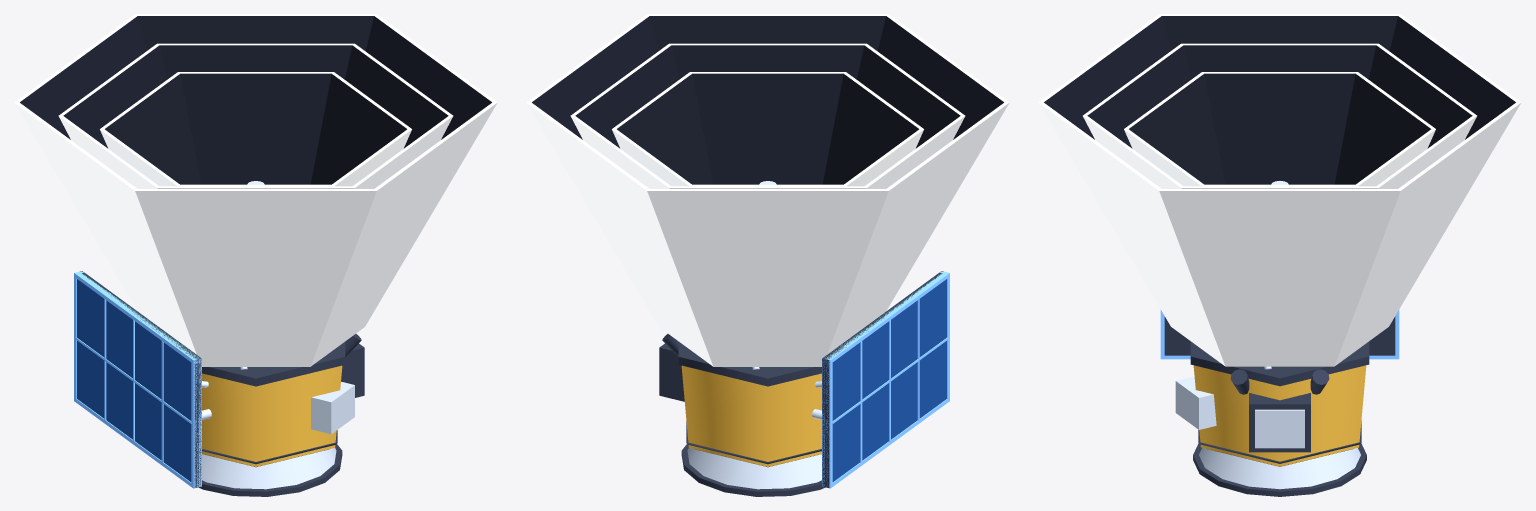
The model's file is spherex-observatory.gltf.
The picture shows the model from 3 angles, left to right: view 1: azimuth 30°, elevation 25°; view 2: azimuth 150°, elevation 25°; view 3: azimuth 270°, elevation 25°; orthographic projection.
Visible parts, largest first — view 1: Photon_Shield_Outer_Exterior, Photon_Shield_Inner_Interior, Photon_Shield_Outer_Interior, Solar_Cells_Plate, Photon_Shield_Middle_Interior, Bus_Hex_Body, Base_Adapter_Cone, Photon_Shield_Outer_Rim, Photon_Shield_Middle_Exterior, Photon_Shield_Middle_Rim, Photon_Shield_Inner_Rim, Bus_Top_Deck (+8 smaller); view 2: Photon_Shield_Outer_Exterior, Photon_Shield_Inner_Interior, Photon_Shield_Outer_Interior, Solar_Cells_Plate, Photon_Shield_Middle_Interior, Bus_Hex_Body, Base_Adapter_Cone, Photon_Shield_Outer_Rim, Photon_Shield_Middle_Exterior, Photon_Shield_Middle_Rim, Photon_Shield_Inner_Rim, Bus_Top_Deck (+7 smaller); view 3: Photon_Shield_Outer_Exterior, Photon_Shield_Inner_Interior, Photon_Shield_Outer_Interior, Photon_Shield_Middle_Interior, Bus_Hex_Body, Base_Adapter_Cone, Photon_Shield_Outer_Rim, Photon_Shield_Middle_Exterior, Photon_Shield_Middle_Rim, Bus_Top_Deck, Photon_Shield_Inner_Rim, Equipment_Radiator_Plate (+6 smaller).
Boxes of the visible parts, x1=… form: Photon_Shield_Outer_Exterior: x1=14, y1=103, x2=497, y2=366; Photon_Shield_Inner_Interior: x1=105, y1=73, x2=406, y2=184; Photon_Shield_Outer_Interior: x1=20, y1=16, x2=491, y2=139; Solar_Cells_Plate: x1=77, y1=279, x2=191, y2=481; Photon_Shield_Middle_Interior: x1=63, y1=45, x2=448, y2=148; Bus_Hex_Body: x1=202, y1=365, x2=342, y2=466; Base_Adapter_Cone: x1=202, y1=448, x2=336, y2=489; Photon_Shield_Outer_Rim: x1=14, y1=14, x2=497, y2=190; Photon_Shield_Middle_Exterior: x1=58, y1=116, x2=453, y2=188; Photon_Shield_Middle_Rim: x1=58, y1=43, x2=453, y2=187; Photon_Shield_Inner_Rim: x1=100, y1=72, x2=411, y2=186; Bus_Top_Deck: x1=202, y1=342, x2=345, y2=386; Photon_Shield_Outer_Exterior: x1=526, y1=103, x2=1009, y2=366; Photon_Shield_Inner_Interior: x1=617, y1=73, x2=918, y2=184; Photon_Shield_Outer_Interior: x1=532, y1=16, x2=1003, y2=139; Solar_Cells_Plate: x1=832, y1=279, x2=946, y2=481; Photon_Shield_Middle_Interior: x1=575, y1=45, x2=960, y2=148; Bus_Hex_Body: x1=681, y1=365, x2=821, y2=466; Base_Adapter_Cone: x1=687, y1=448, x2=821, y2=489; Photon_Shield_Outer_Rim: x1=526, y1=14, x2=1009, y2=190; Photon_Shield_Middle_Exterior: x1=570, y1=116, x2=965, y2=188; Photon_Shield_Middle_Rim: x1=570, y1=43, x2=965, y2=187; Photon_Shield_Inner_Rim: x1=612, y1=72, x2=923, y2=186; Bus_Top_Deck: x1=678, y1=342, x2=821, y2=386; Photon_Shield_Outer_Exterior: x1=1039, y1=103, x2=1520, y2=366; Photon_Shield_Inner_Interior: x1=1129, y1=73, x2=1430, y2=184; Photon_Shield_Outer_Interior: x1=1044, y1=16, x2=1515, y2=139; Photon_Shield_Middle_Interior: x1=1087, y1=45, x2=1472, y2=148; Bus_Hex_Body: x1=1193, y1=365, x2=1366, y2=466; Base_Adapter_Cone: x1=1199, y1=448, x2=1360, y2=489; Photon_Shield_Outer_Rim: x1=1038, y1=14, x2=1521, y2=190; Photon_Shield_Middle_Exterior: x1=1083, y1=116, x2=1476, y2=188; Photon_Shield_Middle_Rim: x1=1083, y1=43, x2=1476, y2=187; Bus_Top_Deck: x1=1190, y1=341, x2=1369, y2=386; Photon_Shield_Inner_Rim: x1=1124, y1=72, x2=1435, y2=186; Equipment_Radiator_Plate: x1=1255, y1=409, x2=1304, y2=448.
Size of the model in its own units: 2.84 by 2.76 by 3.28.
